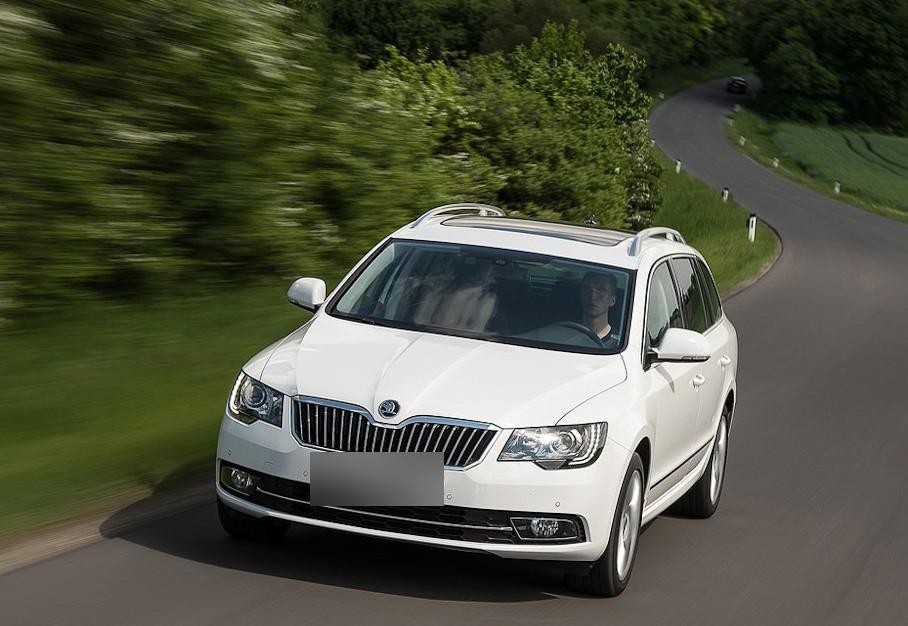Wagon: (215, 203, 740, 598)
